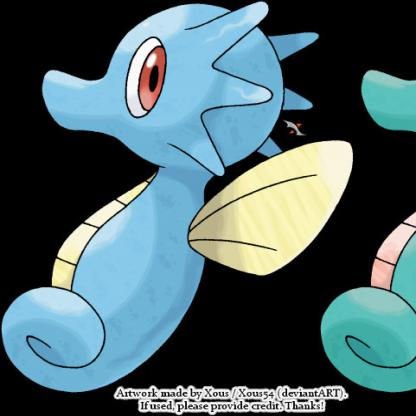Horsea: (1, 1, 356, 396)
